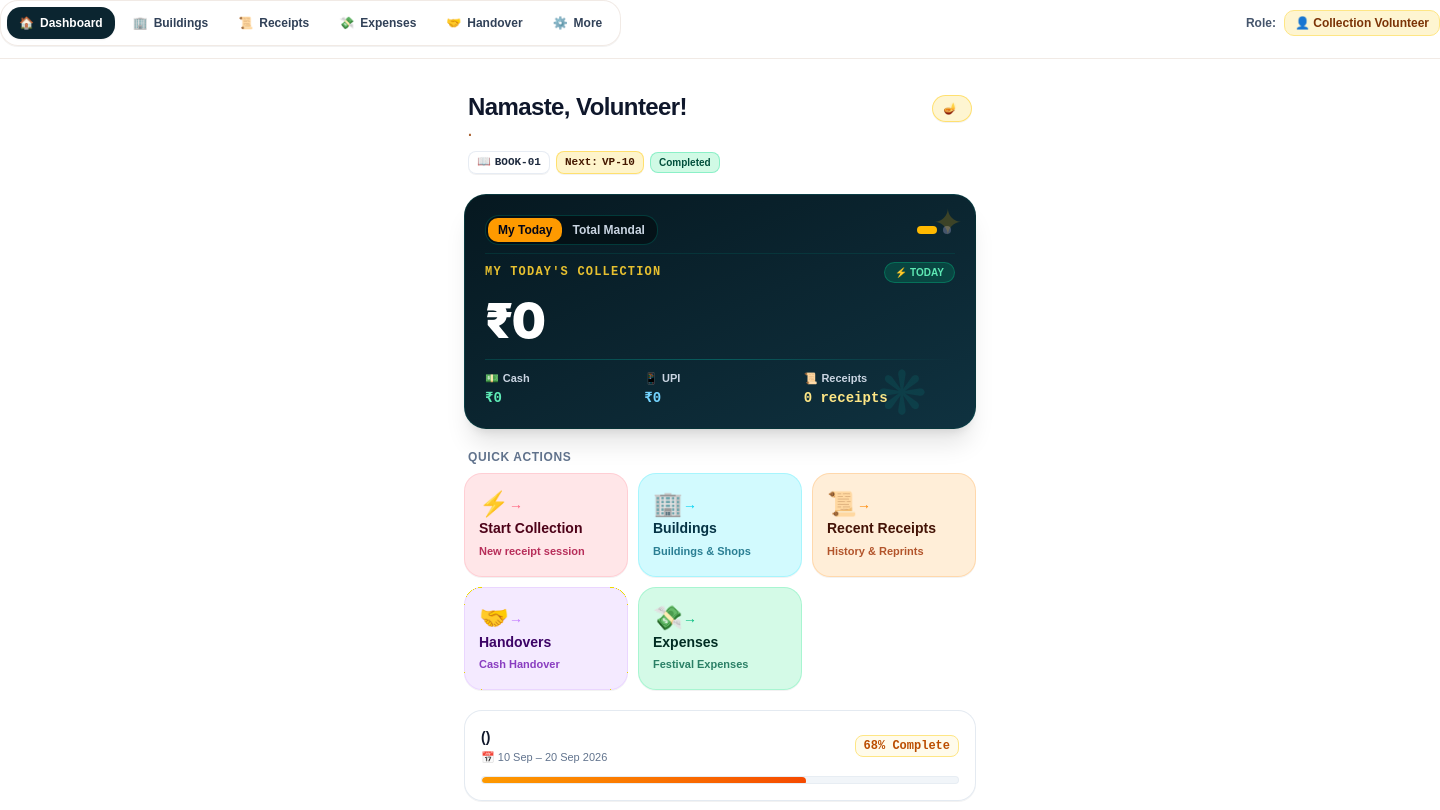
Test: DashboardPage start collection workflow characterization › displays 'Start New Collection' card when a volunteer's current session status is completed
expect the text "BOOK-01" is shown: met, box [495,154,541,170]
Click the button "⚡ → Start Collection New receipt session".
click(546, 525)  # box [464,473,628,576]
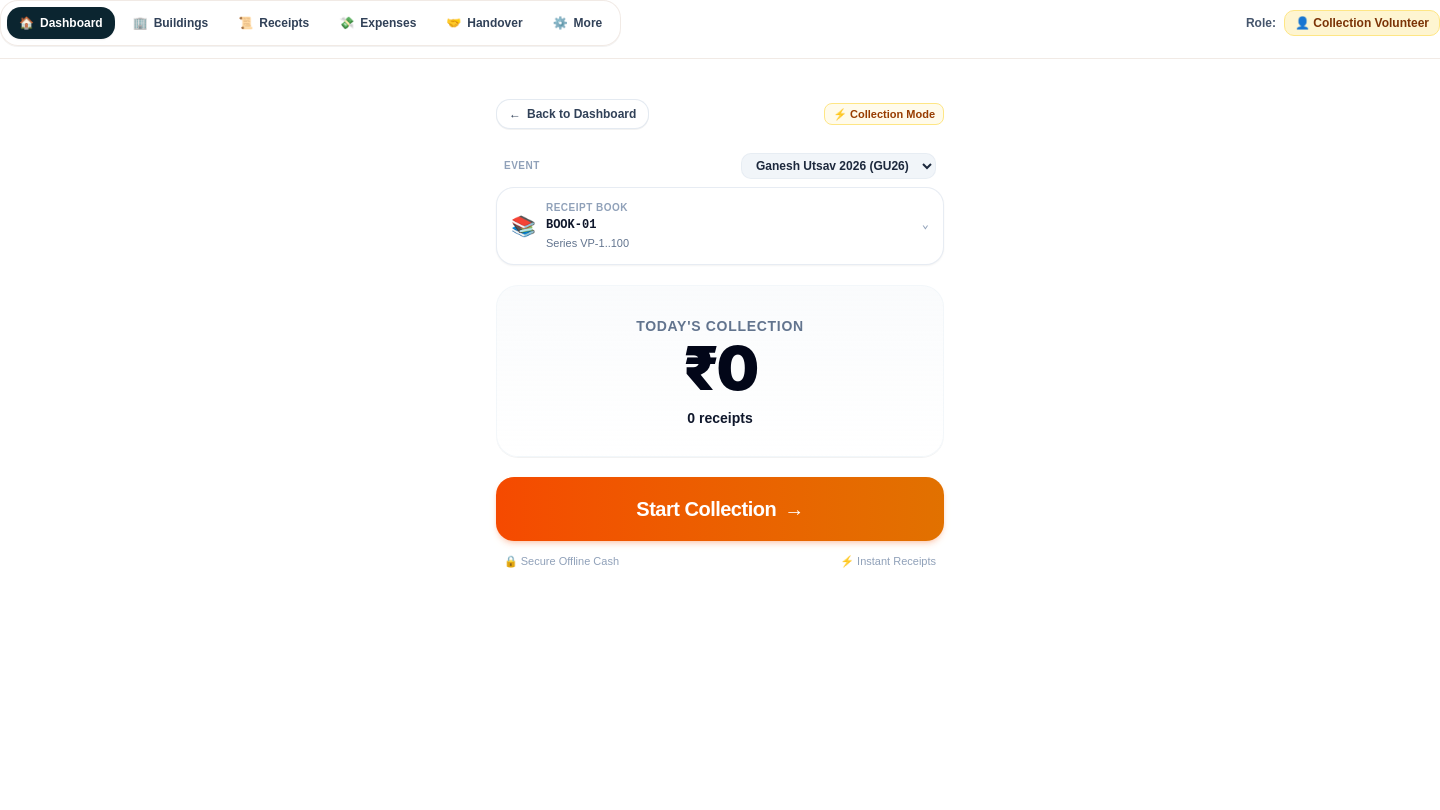
expect the dropdown labelled "Event" shows "Ganesh Utsav 2026 (GU26)": met, box [741,153,936,179]
